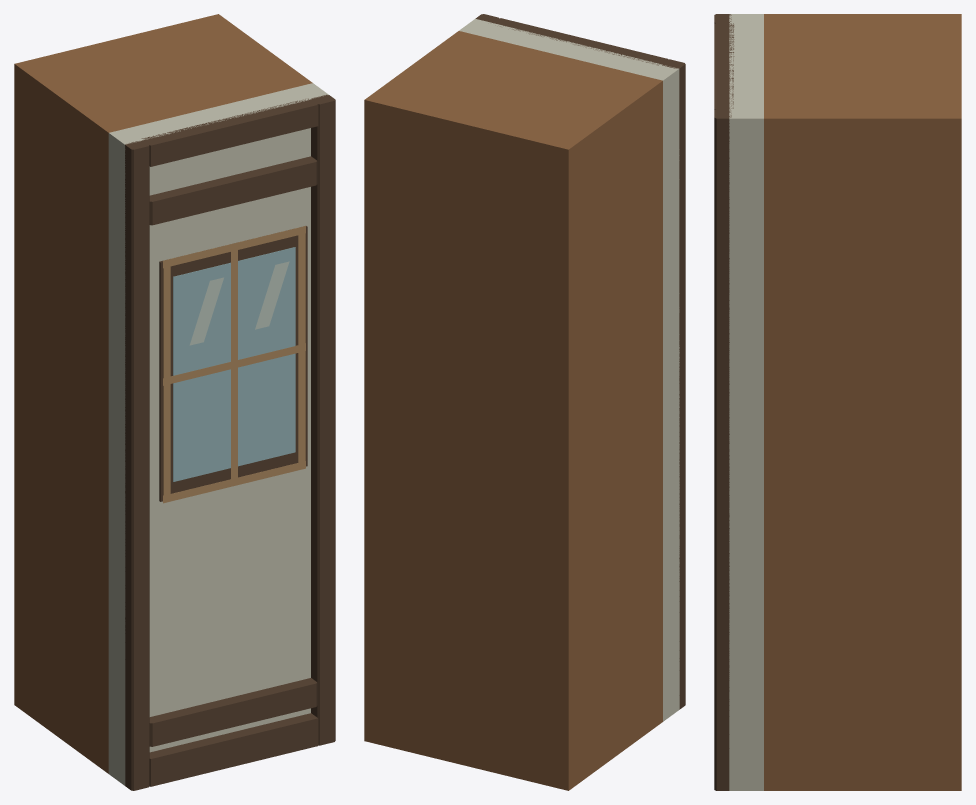
Rendered from wall_shop_window.glb.
3 views of the same model, side by side, from view 1: azimuth 30°, elevation 25°; view 2: azimuth 150°, elevation 25°; view 3: azimuth 270°, elevation 25° (orthographic). The views are drawn at different scales.
Visible parts, largest first — view 1: face_front, geometry; view 2: geometry, face_front; view 3: geometry, face_front.
Boxes of the visible parts, x1=… form: face_front: x1=108, y1=83, x2=335, y2=790; geometry: x1=14, y1=14, x2=312, y2=773; geometry: x1=364, y1=31, x2=662, y2=790; face_front: x1=459, y1=14, x2=685, y2=721; geometry: x1=764, y1=14, x2=961, y2=790; face_front: x1=714, y1=14, x2=763, y2=790.
Size of the model in its own units: 1 by 3 by 1.
